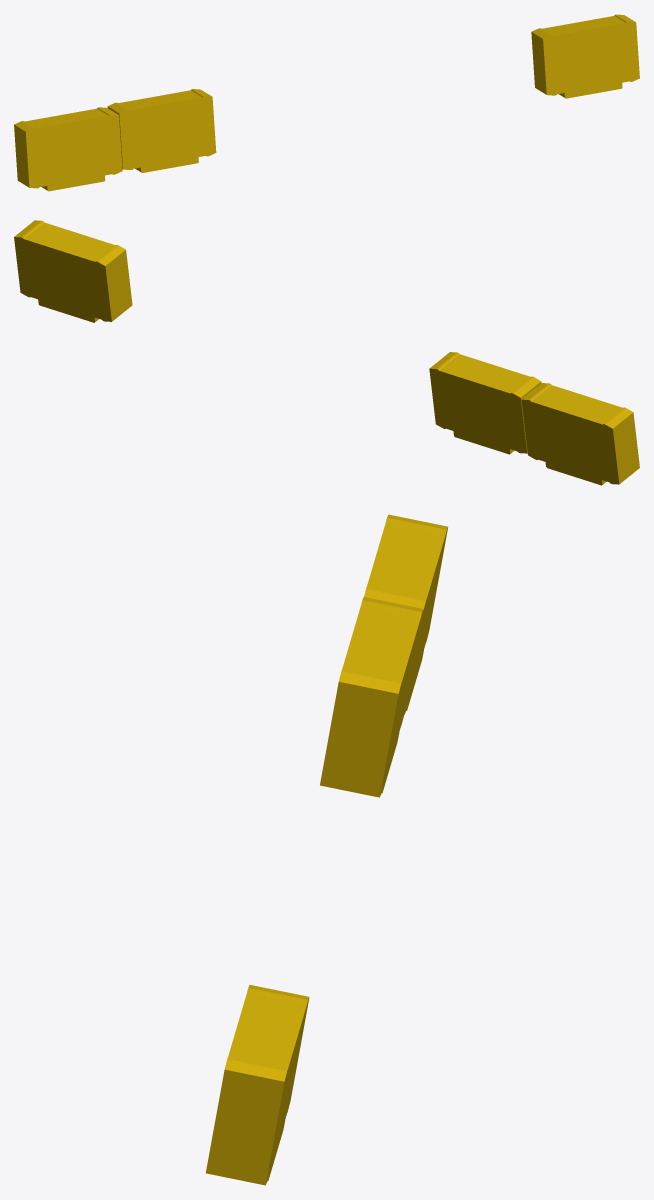
File: POWER ARCHITECTURE__ELEC BOARD COMPONENTS__victron lynx distributor.glb
3 views of the same model, one above another, from view 1: azimuth 30°, elevation 25°; view 2: azimuth 150°, elevation 25°; view 3: azimuth 270°, elevation 25° (orthographic). The views are drawn at different scales.
Visible parts, largest first — view 1: victron lynx distributor; view 2: victron lynx distributor; view 3: victron lynx distributor.
Part boxes in pixels (x1,y1,x2,y2): victron lynx distributor: (14,14,639,191); victron lynx distributor: (14,220,639,485); victron lynx distributor: (206,514,447,1185).
Bounding box in the file's own units: 1.65 × 0.1833 × 0.3021.
